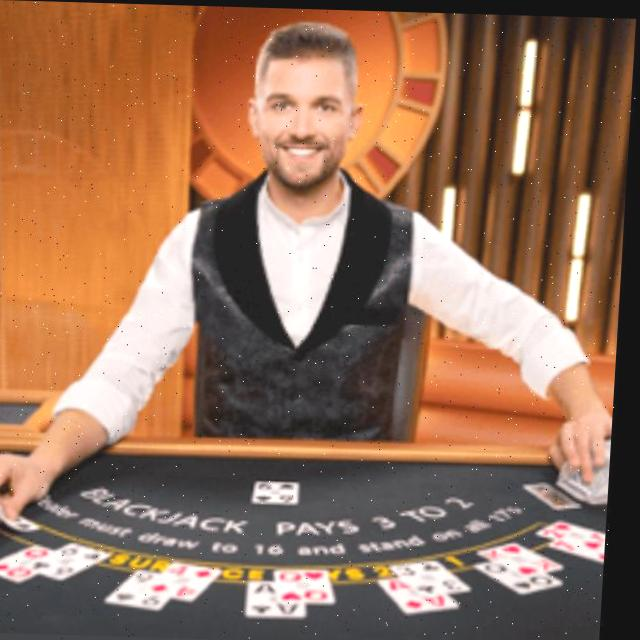Card-2: (541, 516, 613, 544)
Card-3: (397, 558, 476, 593)
Card-4: (159, 560, 228, 599)
Card-6: (37, 539, 117, 579), (258, 478, 305, 501)
Card-7: (556, 534, 610, 558)
Card-9: (115, 566, 178, 607)
Card-A: (384, 574, 467, 613), (253, 578, 312, 615)
Card-K: (486, 537, 567, 569)
Card-Q: (482, 555, 569, 589), (0, 541, 62, 581), (282, 569, 341, 602)
